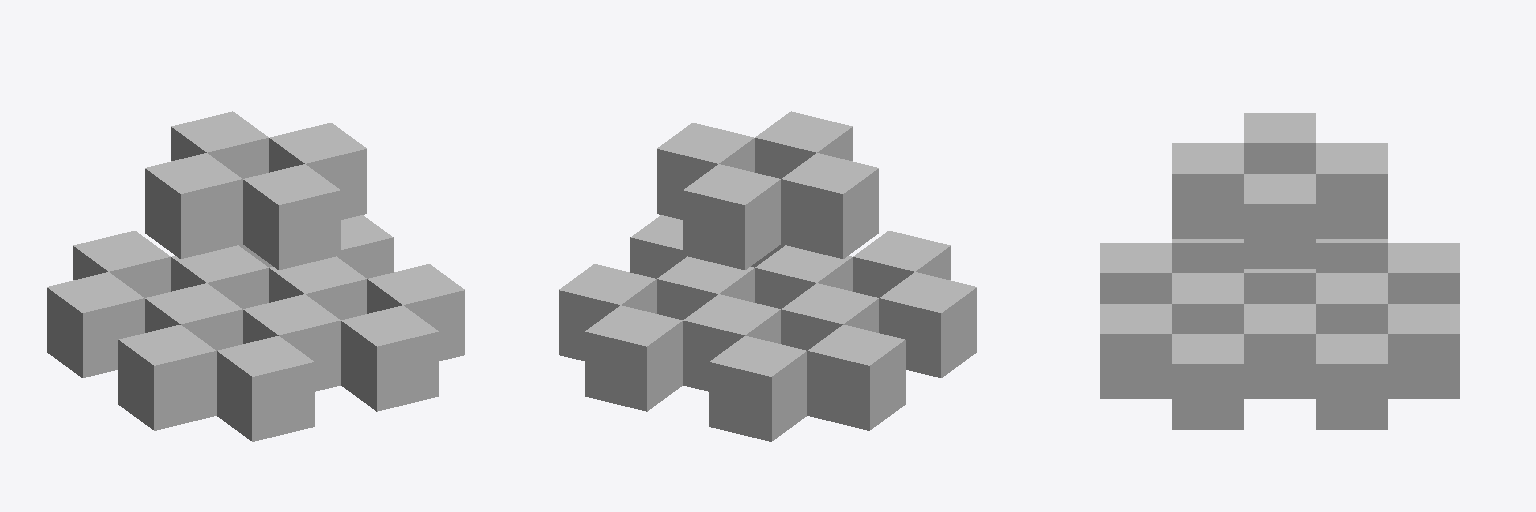
File: sapling.obj
3 renders of one model, left to right at view 1: azimuth 30°, elevation 25°; view 2: azimuth 150°, elevation 25°; view 3: azimuth 270°, elevation 25°, orthographic.
Visible parts, largest first — view 1: leaf; view 2: leaf; view 3: leaf.
Part boxes in pixels (x1,y1,x2,y2): leaf: (47,111,464,441); leaf: (559,111,976,441); leaf: (1100,113,1459,429).
Size of the model in its own units: 0.625 by 0.375 by 0.625.